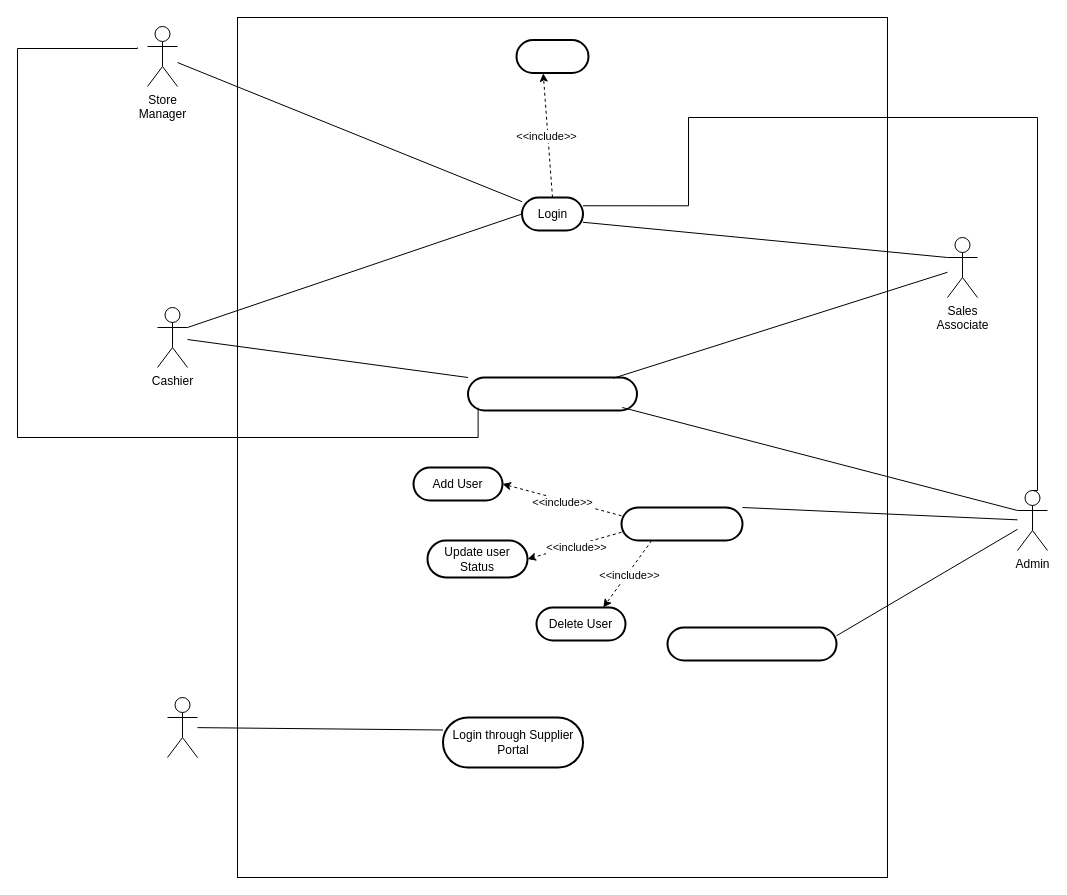
Some shapes in this 1067 by 895 pixel diagram are drawn without their labels. Each missing label, with the centre of its shape:
"Logout" goes at point (552, 56).
"Manage Users" goes at point (681, 523).
"Reset Own Password" goes at point (552, 393).
"Reset User Password" goes at point (751, 643).
"Supplier" goes at point (182, 727).
